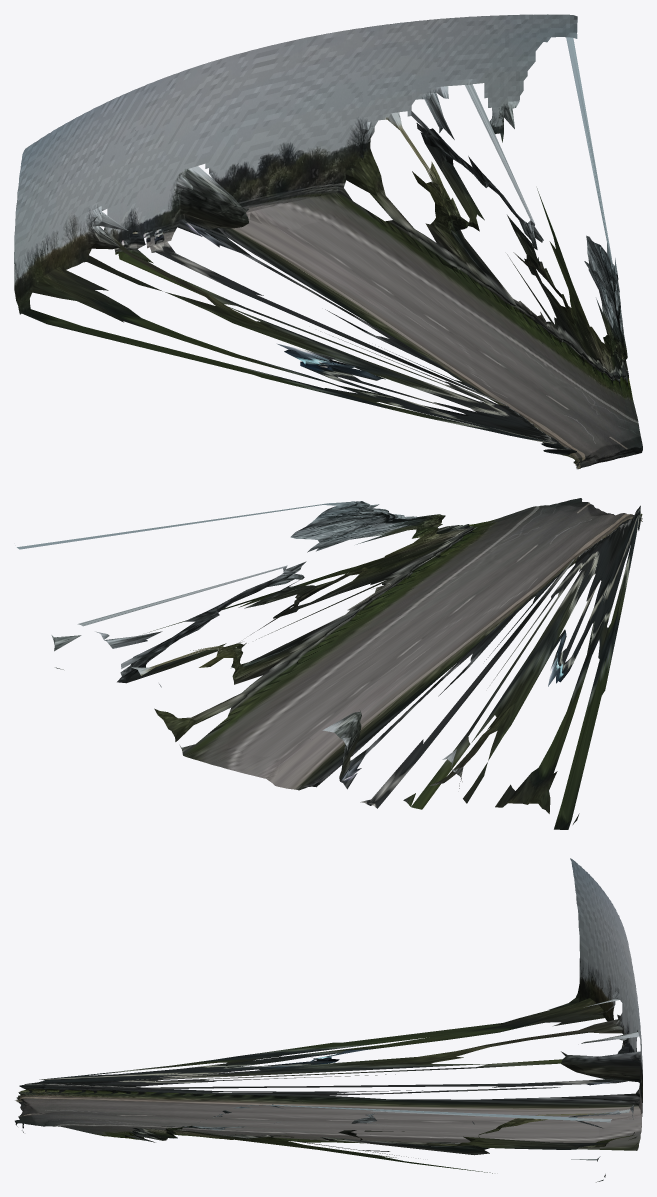
3 views of the same model, one above another, from view 1: azimuth 30°, elevation 25°; view 2: azimuth 150°, elevation 25°; view 3: azimuth 270°, elevation 25° (orthographic). The views are drawn at different scales.
Parts seen in each view (by area): view 1: defaultobject; view 2: defaultobject; view 3: defaultobject.
Boxes of the visible parts, x1,y1,x2,y2 form: defaultobject: (14,14,642,469); defaultobject: (17,498,642,829); defaultobject: (15,858,642,1182).
Size of the model in its own units: 40.94 by 12.78 by 44.59.
1 material, 1 textured.
